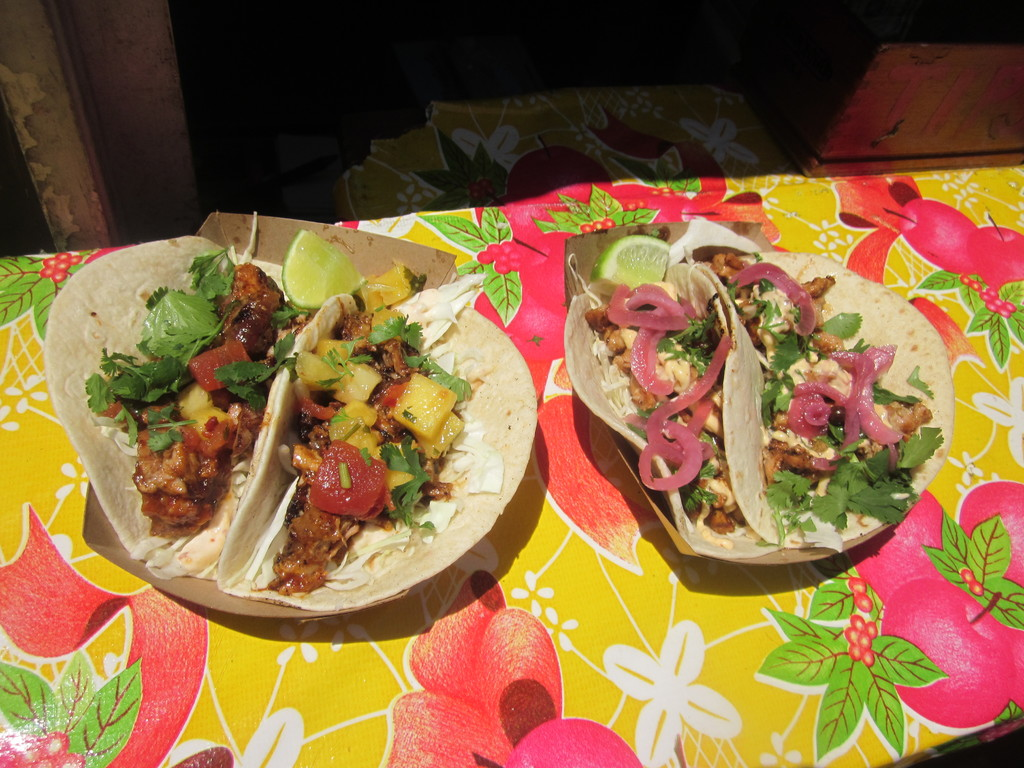taco: (247, 270, 539, 604), (40, 233, 306, 583), (710, 248, 952, 524), (567, 252, 767, 566)
